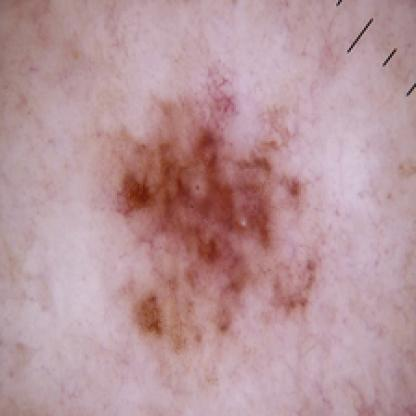Skin_Cancer-Malignant: (109, 83, 323, 361)
